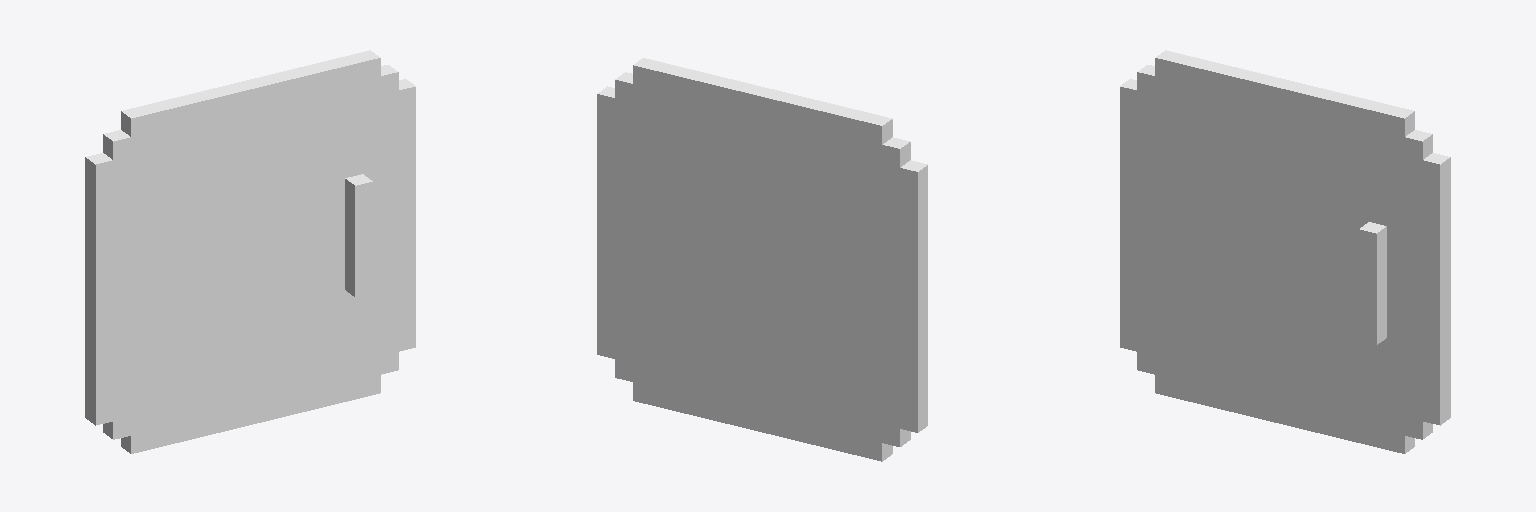
Rendered from SafeDoor.obj.
3 renders of one model, left to right at view 1: azimuth 30°, elevation 25°; view 2: azimuth 150°, elevation 25°; view 3: azimuth 330°, elevation 25°, orthographic.
Parts seen in each view (by area): view 1: object 1; view 2: object 1; view 3: object 1.
Part boxes in pixels (left/top/right/bottom): object 1: left=85, top=50, right=415, bottom=453; object 1: left=597, top=58, right=927, bottom=461; object 1: left=1120, top=50, right=1450, bottom=453.
Bounding box in the file's own units: 1.8 × 1.8 × 0.2.